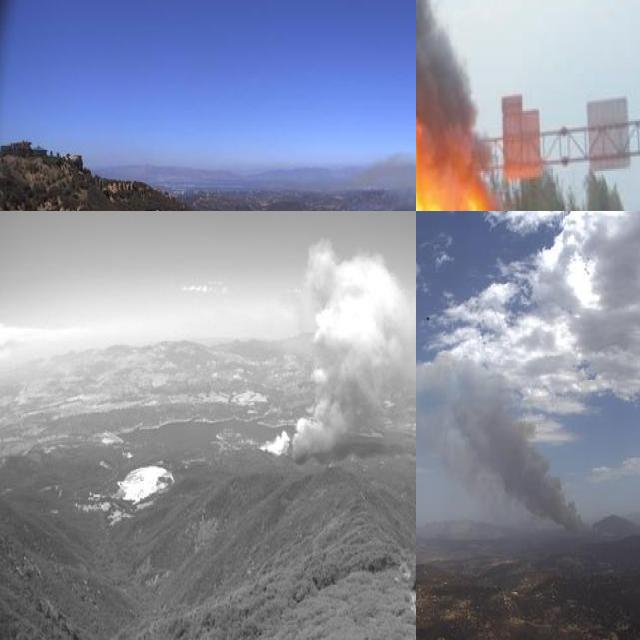fire: (416, 90, 508, 211)
smoke: (416, 346, 617, 549), (253, 229, 416, 461), (416, 0, 491, 168)
